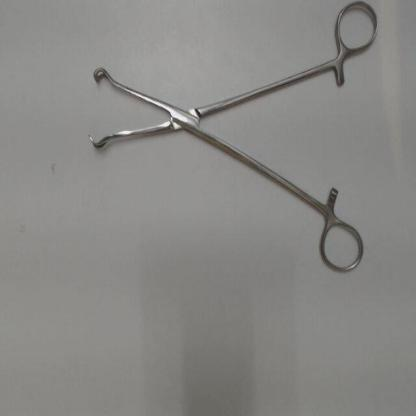8 Babcock Tissue Forceps: (80, 2, 382, 280)
